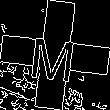M_N: (29, 27, 81, 83)
